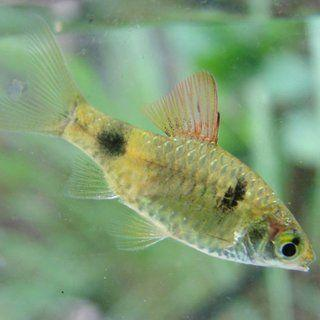Black Spotted Barb: (0, 5, 316, 275)
